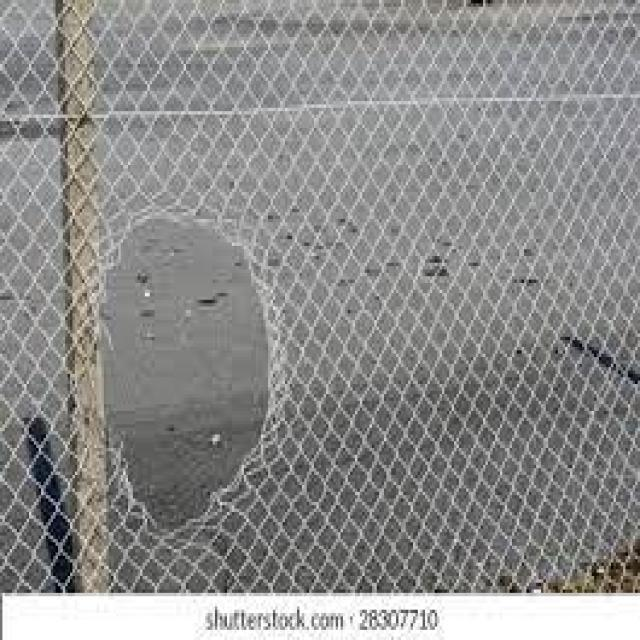fence line: (75, 191, 290, 548)
